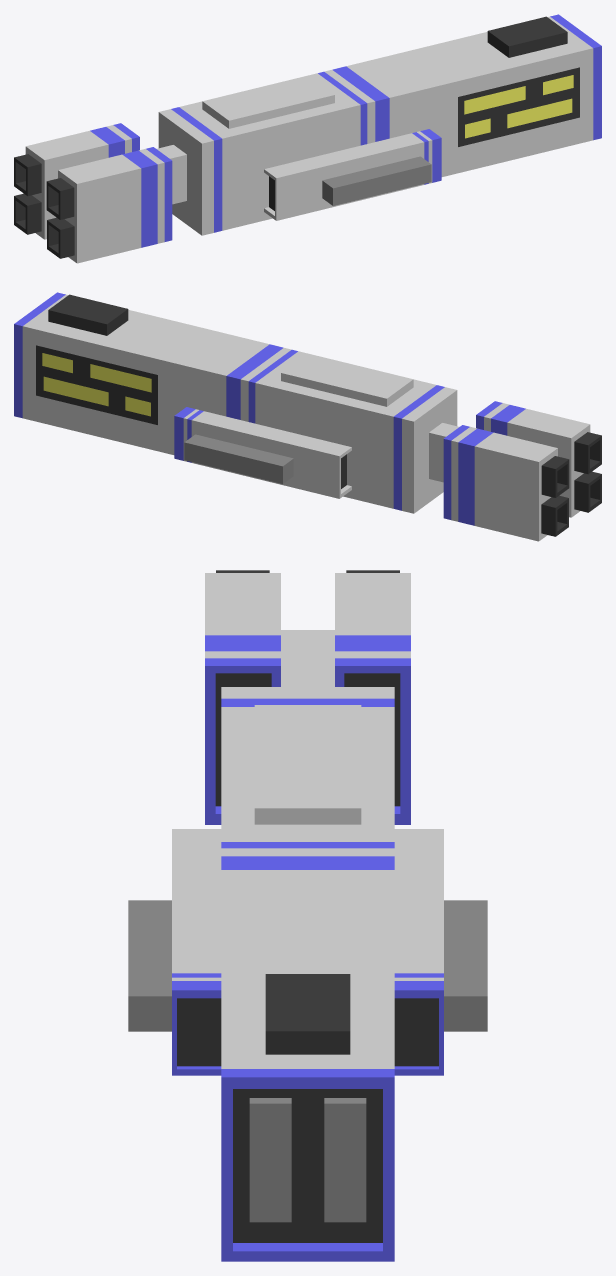
File: Darbis Class Frigate.fbx
The picture shows the model from 3 angles, top to bottom: view 1: azimuth 30°, elevation 25°; view 2: azimuth 150°, elevation 25°; view 3: azimuth 270°, elevation 25°; orthographic projection. The views are drawn at different scales.
Visible parts, largest first — view 1: Group_7_1; view 2: Group_7_1; view 3: Group_7_1.
Part boxes in pixels (x1,y1,x2,y2): Group_7_1: (14,14,601,263); Group_7_1: (14,292,601,541); Group_7_1: (128,570,487,1261).
Size of the model in its own units: 638 by 116 by 183.
